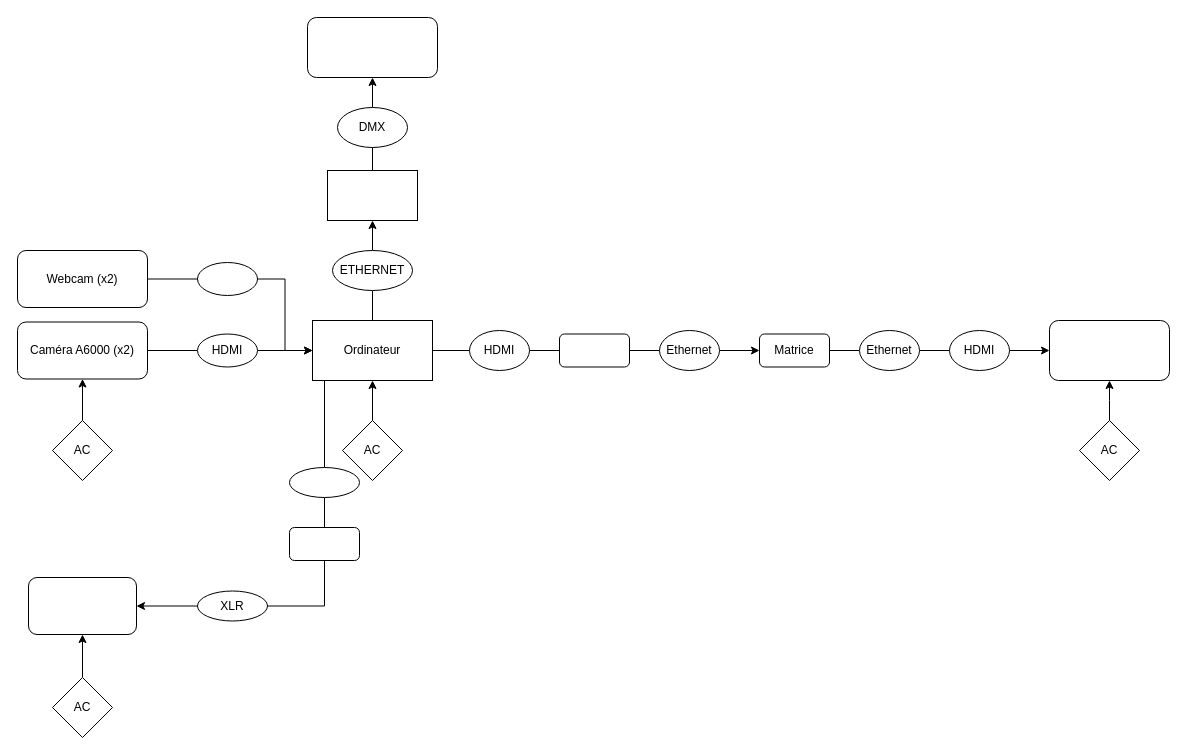
Image size: 1187x755. Some labels were removed from this diagram. Here are the shapes that lost their labels. From the top down, the box of each, then its label:
(306, 16, 438, 78): Éclairage (x6) RGBW
(326, 170, 418, 220): Convertisseur Ethernet/DMX
(196, 262, 258, 296): USB
(558, 333, 630, 367): Extender
(1048, 320, 1170, 380): Projecteur
(288, 466, 360, 498): JACK 1/8
(288, 526, 360, 560): Mixer
(28, 576, 136, 634): Enceinte (x2)
